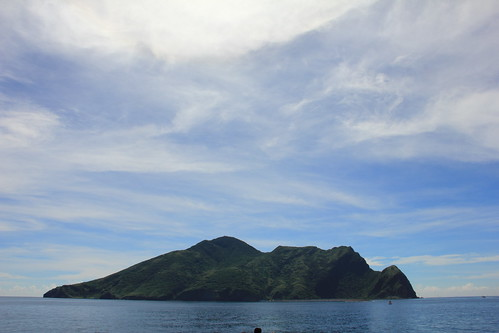turtleIsland: (39, 229, 415, 306)
